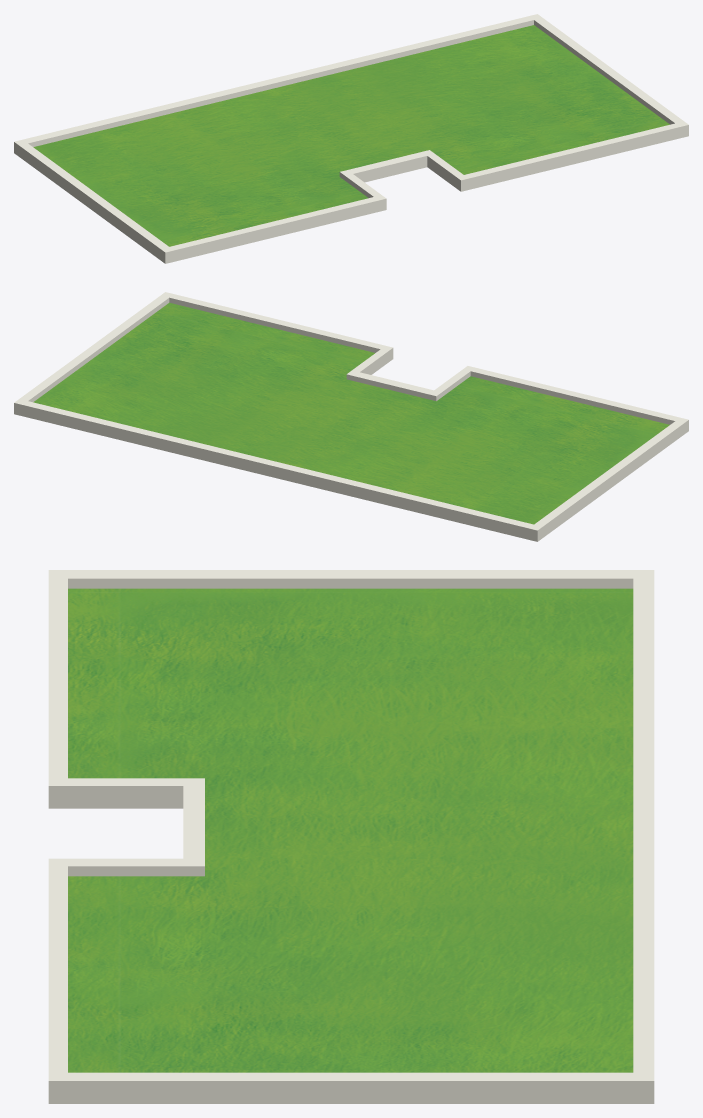
The model's file is fbx_school_outdoor_garden1.fbx.
The picture shows the model from 3 angles, top to bottom: view 1: azimuth 30°, elevation 25°; view 2: azimuth 150°, elevation 25°; view 3: azimuth 270°, elevation 25°; orthographic projection. The views are drawn at different scales.
Parts seen in each view (by area): view 1: fbx_school_outdoor_garden1; view 2: fbx_school_outdoor_garden1; view 3: fbx_school_outdoor_garden1.
Part boxes in pixels (x1,y1,x2,y2): fbx_school_outdoor_garden1: (14,14,688,263); fbx_school_outdoor_garden1: (14,292,688,541); fbx_school_outdoor_garden1: (48,570,654,1103).
Size of the model in its own units: 7.43 by 0.1547 by 3.72.
Materials: 2 (2 with a texture image).
